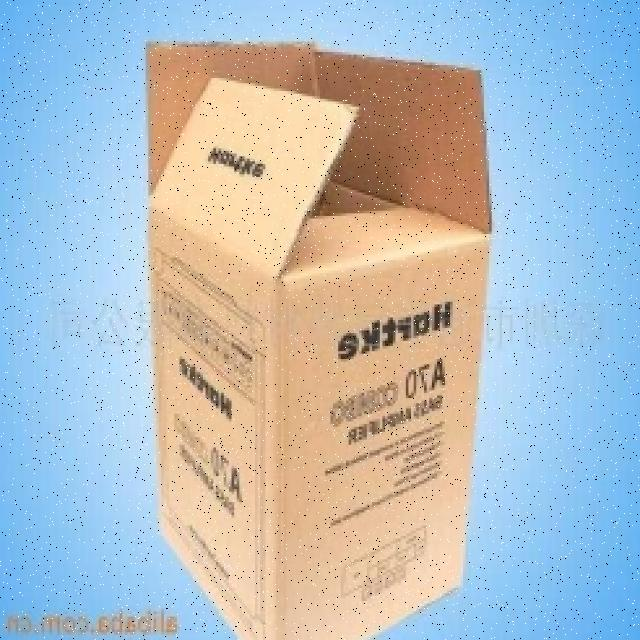box: (107, 54, 500, 640)
